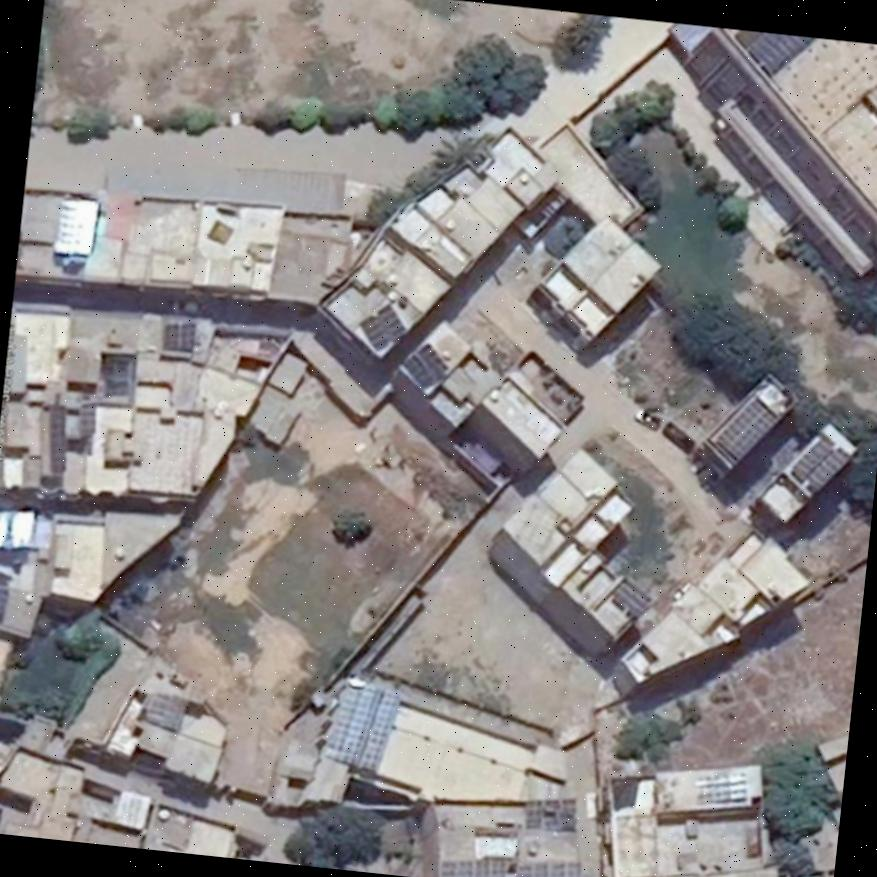Solarpanel: (323, 683, 400, 769), (715, 398, 777, 457), (49, 200, 101, 257), (750, 33, 818, 72), (792, 439, 847, 487), (361, 306, 404, 349), (696, 770, 748, 804), (403, 346, 446, 384), (0, 509, 34, 546), (441, 862, 504, 877), (49, 405, 63, 472), (165, 322, 193, 351), (515, 865, 579, 877), (0, 589, 11, 612)
